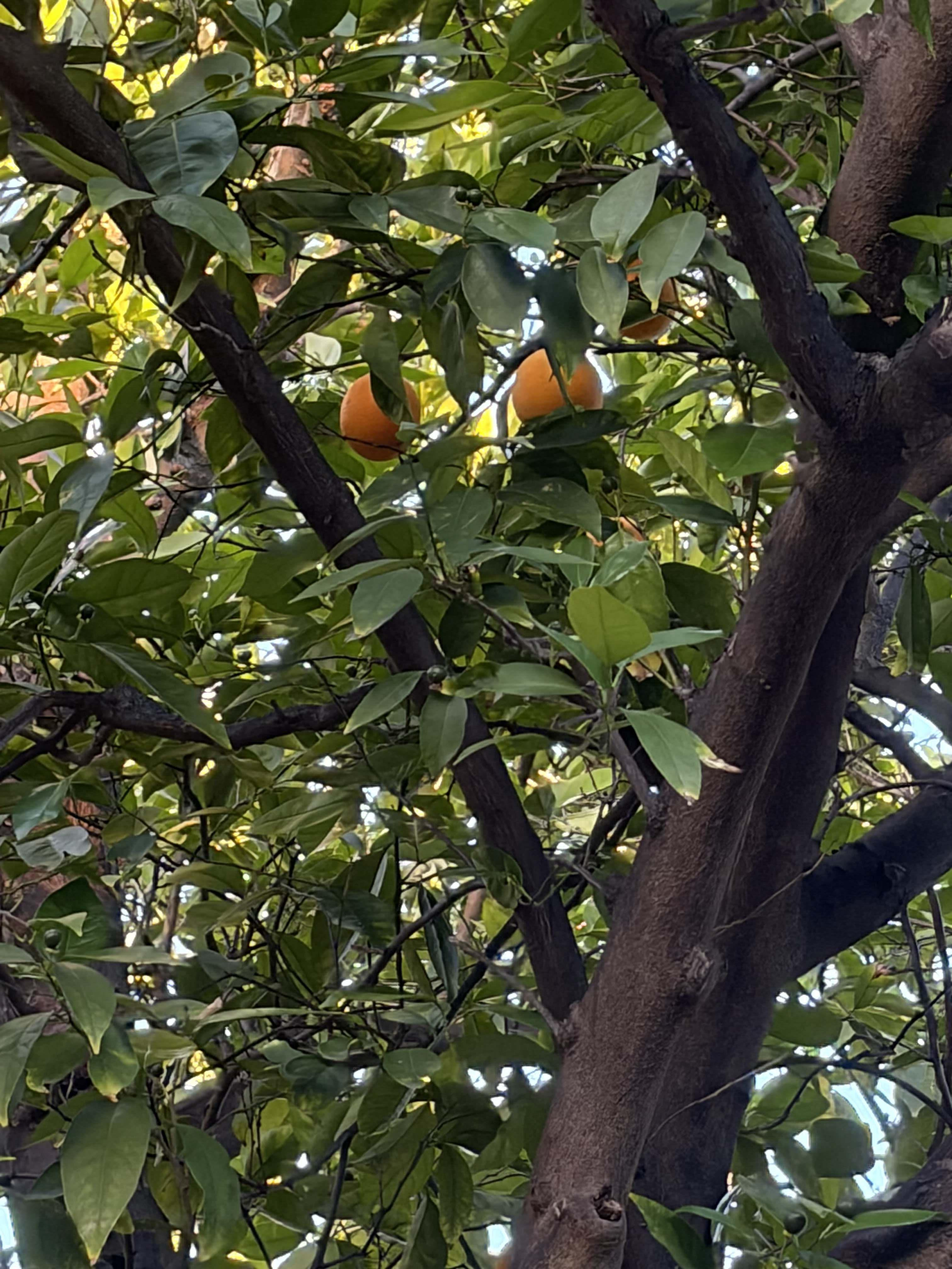orange: (339, 371, 420, 462), (512, 347, 604, 422), (619, 260, 678, 341)
